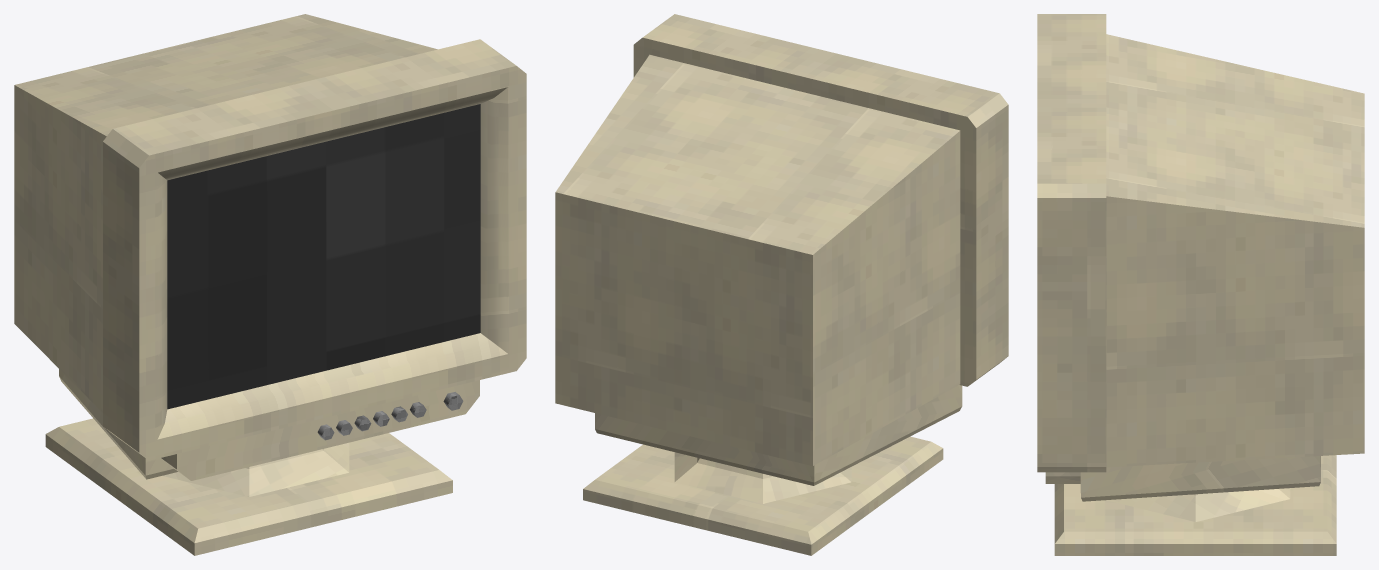
The model's file is SM_Computer_Screen.fbx.
3 views of the same model, side by side, from view 1: azimuth 30°, elevation 25°; view 2: azimuth 150°, elevation 25°; view 3: azimuth 270°, elevation 25° (orthographic). The views are drawn at different scales.
Parts seen in each view (by area): view 1: SM_Computer_Screen; view 2: SM_Computer_Screen; view 3: SM_Computer_Screen.
Boxes of the visible parts, <box> form: SM_Computer_Screen: <box>14,14,526,555</box>; SM_Computer_Screen: <box>555,14,1008,555</box>; SM_Computer_Screen: <box>1037,14,1364,555</box>.
Size of the model in its own units: 59.06 by 61.27 by 45.72.
Materials: 3 (3 with a texture image).
